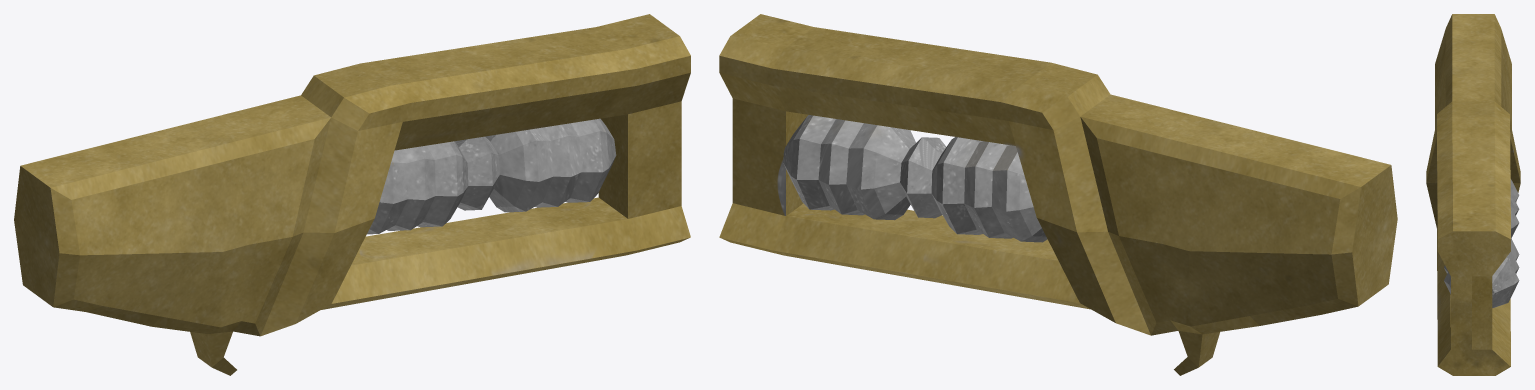
File: GRAVITY RECIVER.fbx
3 views of the same model, side by side, from view 1: azimuth 30°, elevation 25°; view 2: azimuth 150°, elevation 25°; view 3: azimuth 270°, elevation 25° (orthographic). The views are drawn at different scales.
Parts seen in each view (by area): view 1: GRAVITY_RECIVER; view 2: GRAVITY_RECIVER; view 3: GRAVITY_RECIVER.
Part boxes in pixels (box(x1,y1,x2,y2)): GRAVITY_RECIVER: box(14, 14, 690, 375); GRAVITY_RECIVER: box(719, 14, 1397, 375); GRAVITY_RECIVER: box(1426, 14, 1520, 375).
Size of the model in its own units: 234 by 93.13 by 43.37.
1 material, 1 textured.
